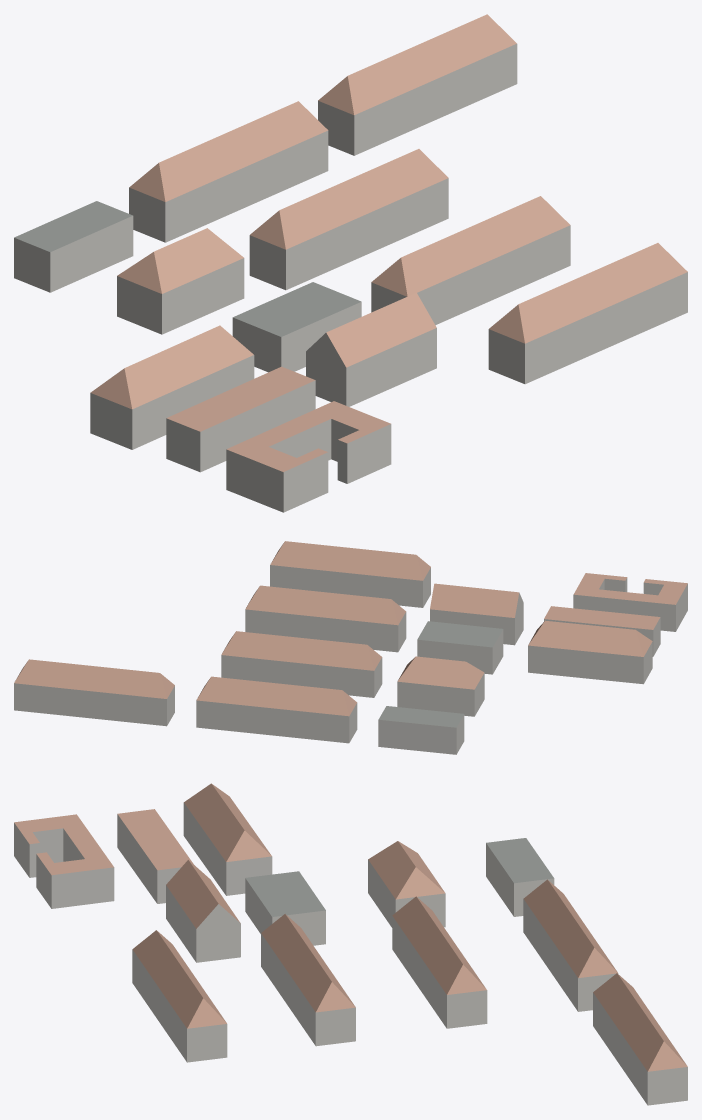
The model's file is gridID_39.dae.
3 renders of one model, top to bottom at view 1: azimuth 30°, elevation 25°; view 2: azimuth 150°, elevation 25°; view 3: azimuth 270°, elevation 25°, orthographic. The views are drawn at different scales.
Parts seen in each view (by area): view 1: model_gridID_39_w376378573, model_gridID_39_w376378586, model_gridID_39_w376378540_001, model_gridID_39_w376378540, model_gridID_39_w376378560, model_gridID_39_w376378533_001, model_gridID_39_w376378579, model_gridID_39_w376378584, model_gridID_39_w376378574, model_gridID_39_w376378533, model_gridID_39_w376378559, model_gridID_39_w376378581; view 2: model_gridID_39_w376378540_001, model_gridID_39_w376378540, model_gridID_39_w376378560, model_gridID_39_w376378586, model_gridID_39_w376378573, model_gridID_39_w376378579, model_gridID_39_w376378574, model_gridID_39_w376378533_001, model_gridID_39_w376378584, model_gridID_39_w376378559, model_gridID_39_w376378581, model_gridID_39_w376378533; view 3: model_gridID_39_w376378573, model_gridID_39_w376378586, model_gridID_39_w376378560, model_gridID_39_w376378540, model_gridID_39_w376378533_001, model_gridID_39_w376378540_001, model_gridID_39_w376378579, model_gridID_39_w376378584, model_gridID_39_w376378533, model_gridID_39_w376378574, model_gridID_39_w376378581, model_gridID_39_w376378559.
Boxes of the visible parts, x1,y1,x2,y2 form: model_gridID_39_w376378573: [488, 243, 687, 384]; model_gridID_39_w376378586: [249, 149, 448, 290]; model_gridID_39_w376378540_001: [129, 101, 328, 242]; model_gridID_39_w376378540: [318, 14, 517, 155]; model_gridID_39_w376378560: [371, 196, 570, 325]; model_gridID_39_w376378533_001: [226, 401, 391, 512]; model_gridID_39_w376378579: [90, 325, 254, 449]; model_gridID_39_w376378584: [306, 293, 436, 406]; model_gridID_39_w376378574: [117, 228, 244, 334]; model_gridID_39_w376378533: [166, 366, 315, 472]; model_gridID_39_w376378559: [14, 201, 133, 292]; model_gridID_39_w376378581: [232, 282, 361, 372]; model_gridID_39_w376378540_001: [196, 676, 357, 743]; model_gridID_39_w376378540: [14, 659, 174, 726]; model_gridID_39_w376378560: [245, 585, 406, 652]; model_gridID_39_w376378586: [221, 631, 382, 697]; model_gridID_39_w376378573: [270, 541, 430, 607]; model_gridID_39_w376378579: [528, 620, 652, 684]; model_gridID_39_w376378574: [397, 656, 484, 716]; model_gridID_39_w376378533_001: [573, 573, 687, 631]; model_gridID_39_w376378584: [430, 583, 523, 645]; model_gridID_39_w376378559: [378, 706, 464, 754]; model_gridID_39_w376378581: [417, 621, 503, 674]; model_gridID_39_w376378533: [544, 606, 660, 656]; model_gridID_39_w376378573: [132, 930, 227, 1062]; model_gridID_39_w376378586: [392, 896, 487, 1028]; model_gridID_39_w376378560: [261, 914, 355, 1046]; model_gridID_39_w376378540: [593, 973, 687, 1105]; model_gridID_39_w376378533_001: [14, 814, 114, 908]; model_gridID_39_w376378540_001: [523, 879, 618, 1011]; model_gridID_39_w376378579: [183, 783, 272, 895]; model_gridID_39_w376378584: [166, 860, 240, 962]; model_gridID_39_w376378533: [117, 809, 193, 903]; model_gridID_39_w376378574: [368, 841, 445, 927]; model_gridID_39_w376378581: [245, 871, 325, 945]; model_gridID_39_w376378559: [486, 838, 554, 916].
Size of the model in its own units: 131 by 136 by 12.5.
